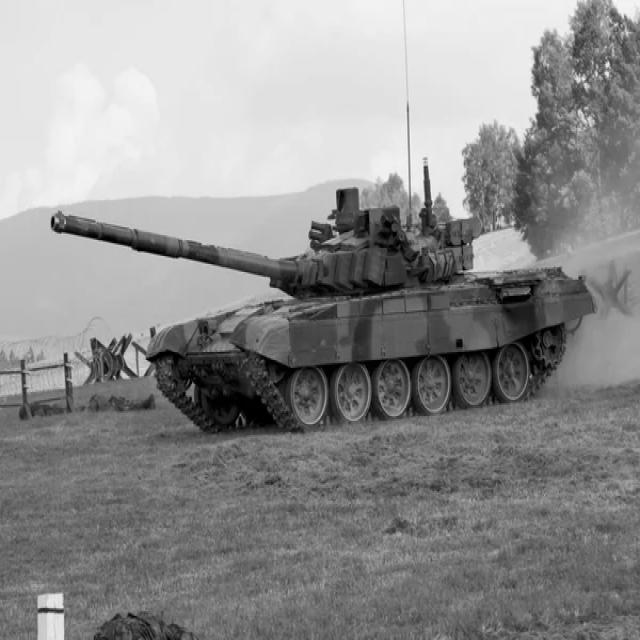Tank: (46, 177, 598, 420)
